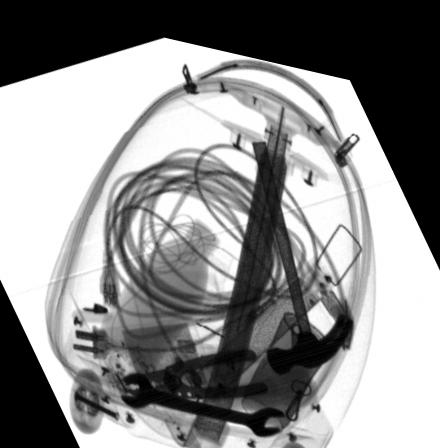Hammer: (250, 128, 354, 364)
Pliers: (123, 335, 268, 393)
Powerbank: (121, 312, 216, 385)
Wrench: (119, 366, 286, 425)
